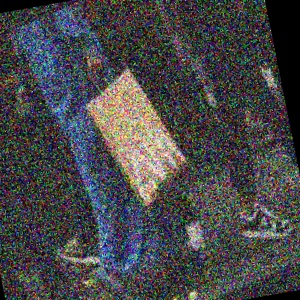zara: (109, 39, 266, 195)
